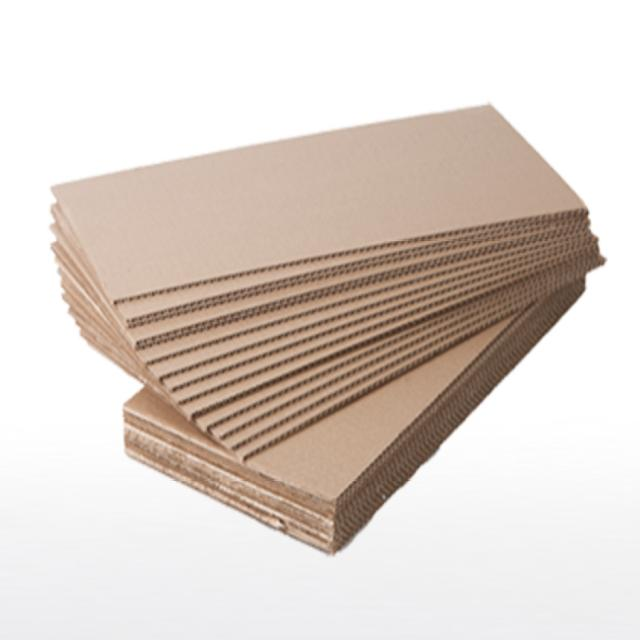biodegradable: (34, 72, 621, 574)
